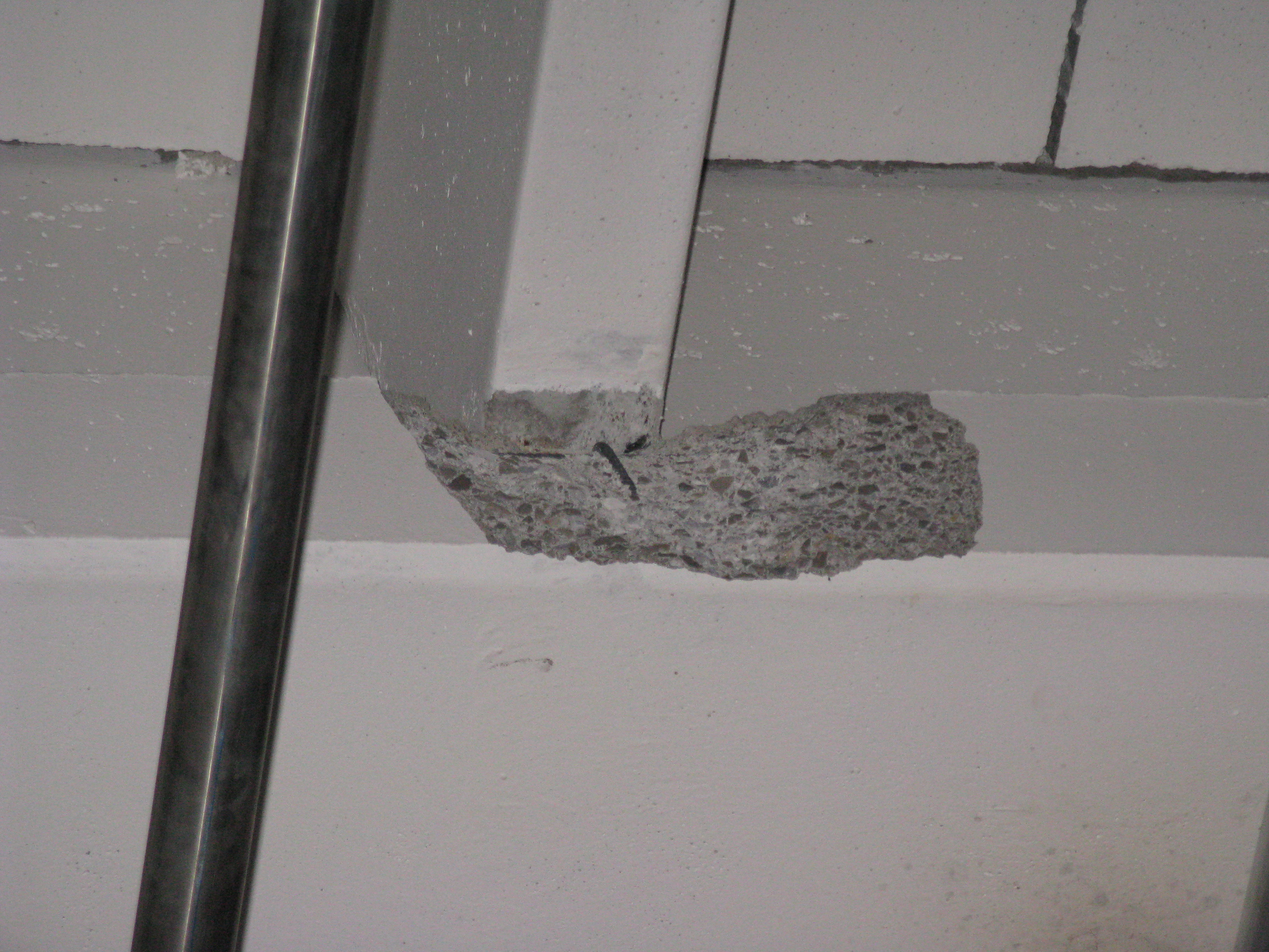Spalling: (368, 385, 984, 583)
